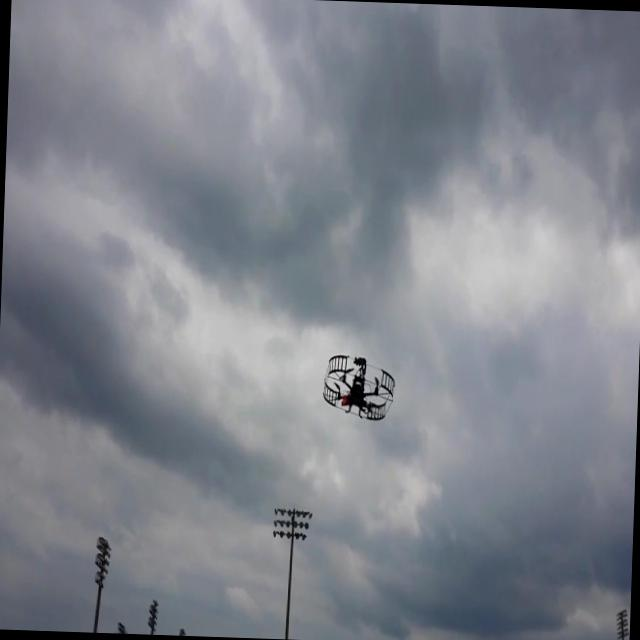drone: (320, 351, 400, 425)
